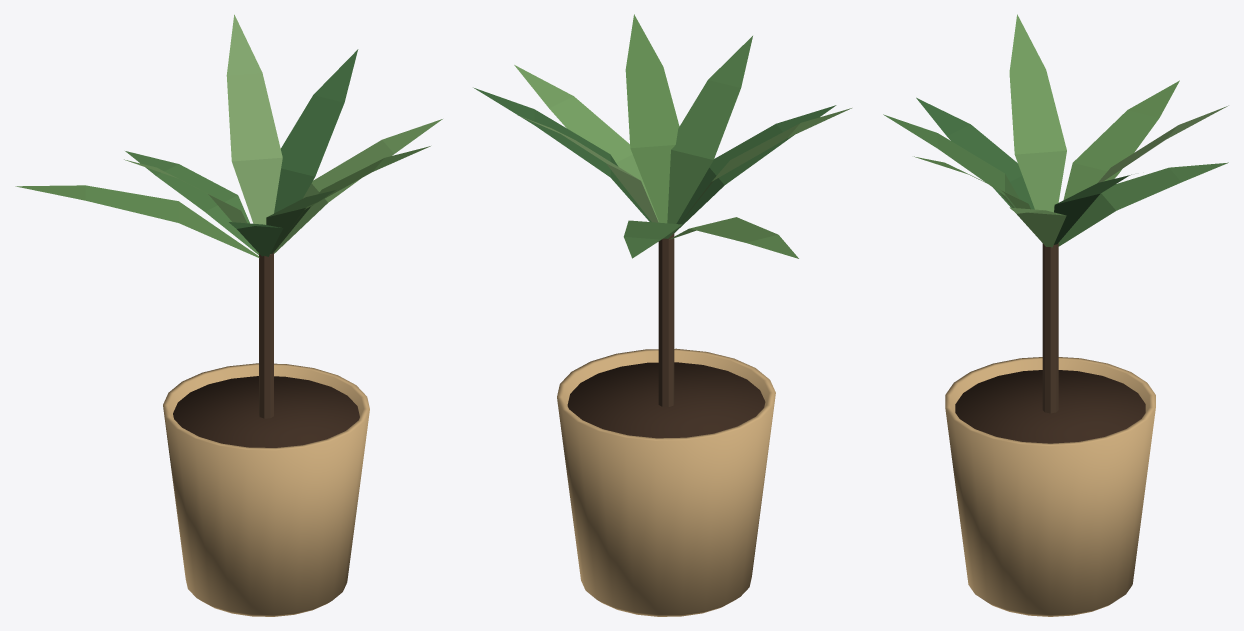
The model's file is i_plant_11.glb.
The picture shows the model from 3 angles, left to right: view 1: azimuth 30°, elevation 25°; view 2: azimuth 150°, elevation 25°; view 3: azimuth 270°, elevation 25°; orthographic projection. The views are drawn at different scales.
Parts seen in each view (by area): view 1: o, o.001, o.007, o.006, o.009, o.008, o.005, o.002, o.003, o.011, o.004; view 2: o, o.001, o.004, o.003, o.005, o.002, o.011, o.006, o.009, o.008, o.010, o.007; view 3: o, o.001, o.010, o.009, o.008, o.002, o.011, o.003, o.006, o.005, o.007.
Part boxes in pixels (x1,y1,x2,y2): o: (163, 363, 369, 616); o.001: (173, 376, 359, 447); o.007: (226, 14, 282, 224); o.006: (274, 49, 358, 213); o.009: (15, 185, 259, 257); o.008: (125, 151, 258, 254); o.005: (274, 119, 442, 253); o.002: (259, 252, 273, 418); o.003: (266, 188, 342, 253); o.011: (229, 222, 283, 256); o.004: (274, 146, 430, 250); o: (557, 348, 775, 616); o.001: (567, 362, 765, 438); o.004: (625, 14, 679, 223); o.003: (667, 36, 752, 223); o.005: (514, 65, 658, 222); o.002: (658, 233, 674, 407); o.011: (674, 105, 836, 233); o.006: (473, 87, 651, 222); o.009: (669, 217, 798, 258); o.008: (623, 220, 682, 258); o.010: (679, 108, 851, 223); o.007: (518, 115, 658, 222); o: (945, 357, 1155, 616); o.001: (955, 370, 1145, 443); o.010: (1009, 14, 1066, 212); o.009: (1063, 80, 1179, 200); o.008: (1058, 162, 1228, 246); o.002: (1042, 243, 1058, 413); o.011: (916, 97, 1034, 209); o.003: (883, 114, 1019, 207); o.006: (1054, 174, 1131, 244); o.005: (1009, 207, 1066, 247); o.007: (1098, 105, 1228, 182).
Bounding box in the file's own units: 0.7791 × 1.05 × 0.6538.
